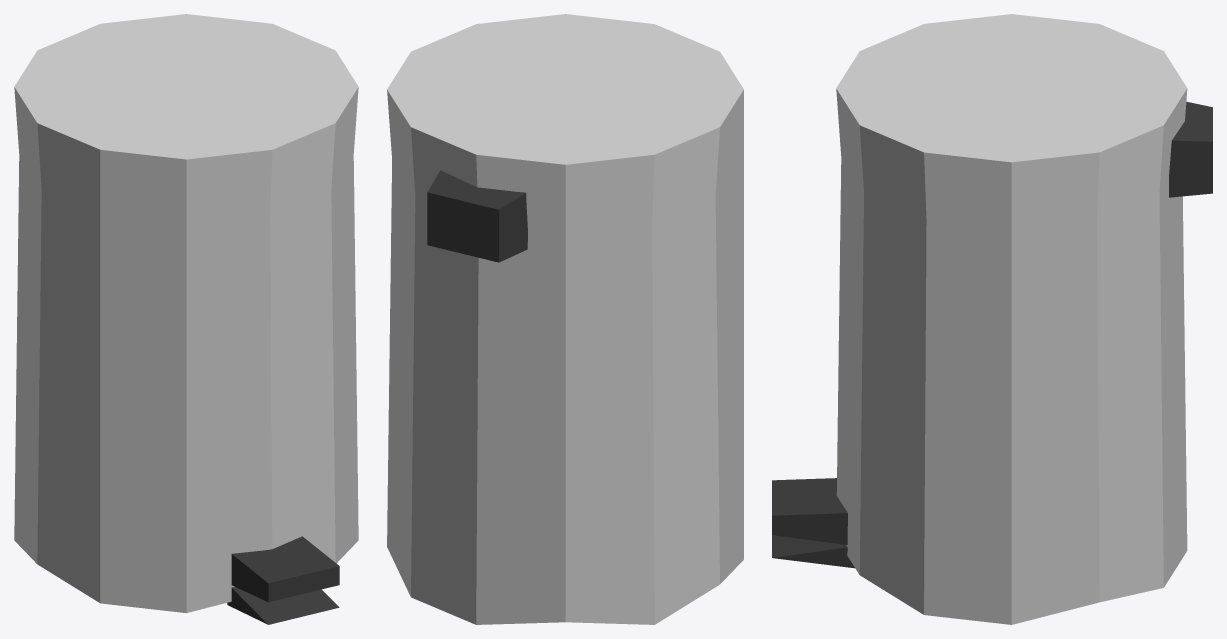
File: trash.glb
3 views of the same model, side by side, from view 1: azimuth 30°, elevation 25°; view 2: azimuth 150°, elevation 25°; view 3: azimuth 270°, elevation 25° (orthographic). The views are drawn at different scales.
Parts seen in each view (by area): view 1: trash_colourA, trash; view 2: trash_colourA, trash; view 3: trash_colourA, trash.
Part boxes in pixels (bbox=[...]): trash_colourA: bbox=[14, 14, 358, 613]; trash: bbox=[227, 536, 339, 624]; trash_colourA: bbox=[387, 14, 743, 624]; trash: bbox=[427, 170, 527, 262]; trash_colourA: bbox=[836, 14, 1187, 624]; trash: bbox=[772, 101, 1212, 568].
Bounding box in the file's own units: 0.5132 × 0.7459 × 0.6445.
Materials: 2 (1 with a texture image).
